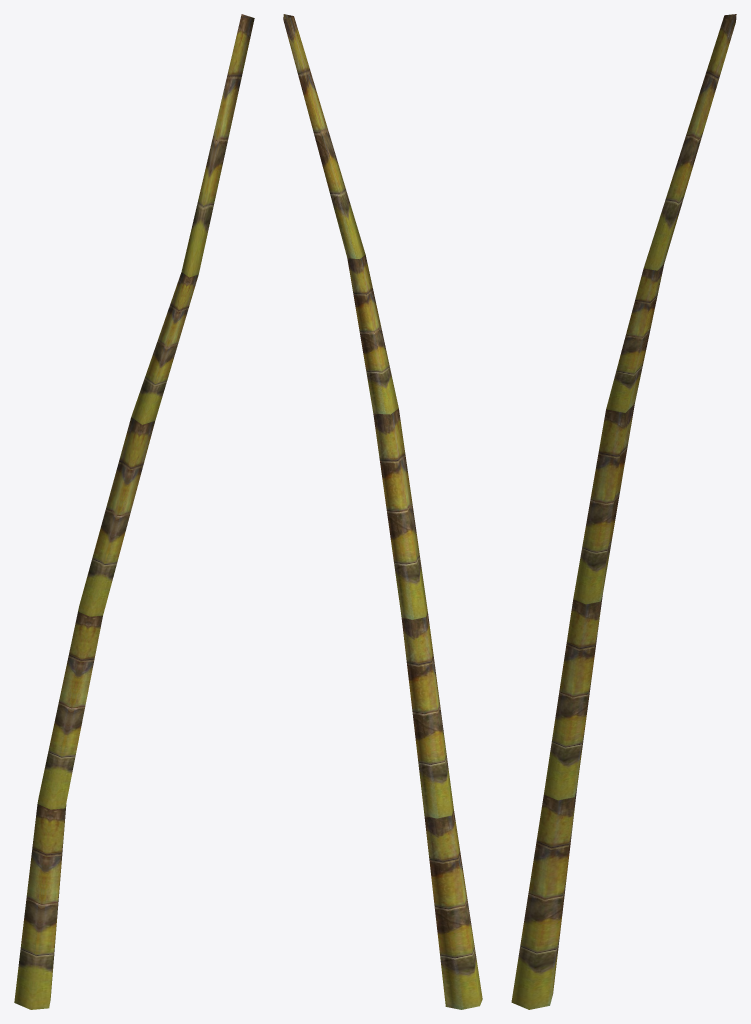
The model's file is stam.obj.
3 renders of one model, left to right at view 1: azimuth 30°, elevation 25°; view 2: azimuth 150°, elevation 25°; view 3: azimuth 330°, elevation 25°, orthographic. The views are drawn at different scales.
Parts seen in each view (by area): view 1: stam; view 2: stam; view 3: stam.
Part boxes in pixels (bbox=[...]): stam: bbox=[14, 14, 254, 1009]; stam: bbox=[283, 14, 482, 1009]; stam: bbox=[511, 14, 736, 1009].
Bounding box in the file's own units: 79.85 × 329 × 24.37.
1 material, 1 textured.
